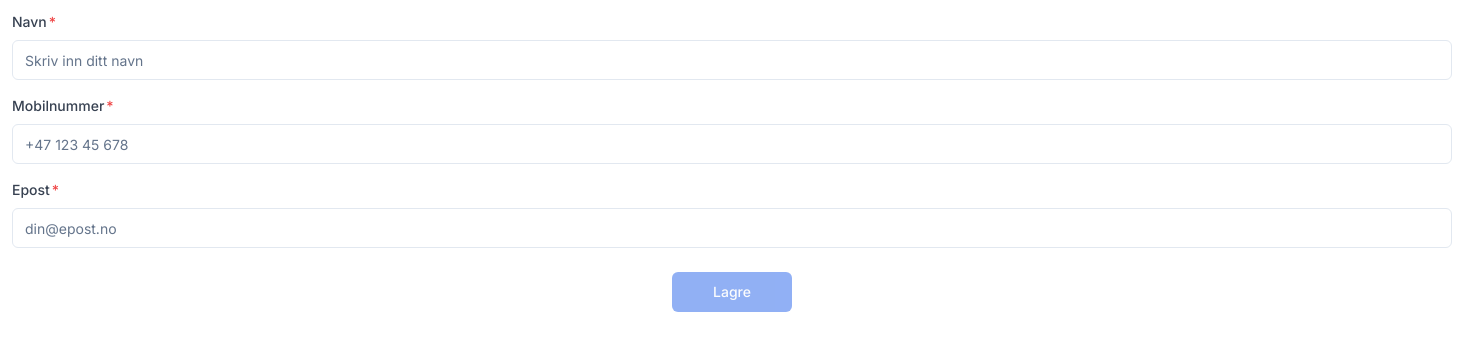
UserForm › should format mobile number as user types
The image size is (1464, 357).
Type 8-digit number and verify it gets formatted
Step 1. Type "12345678" into the field with placeholder "+47 123 45 678" → point(732, 144), box left=12, top=124, right=1452, bottom=164
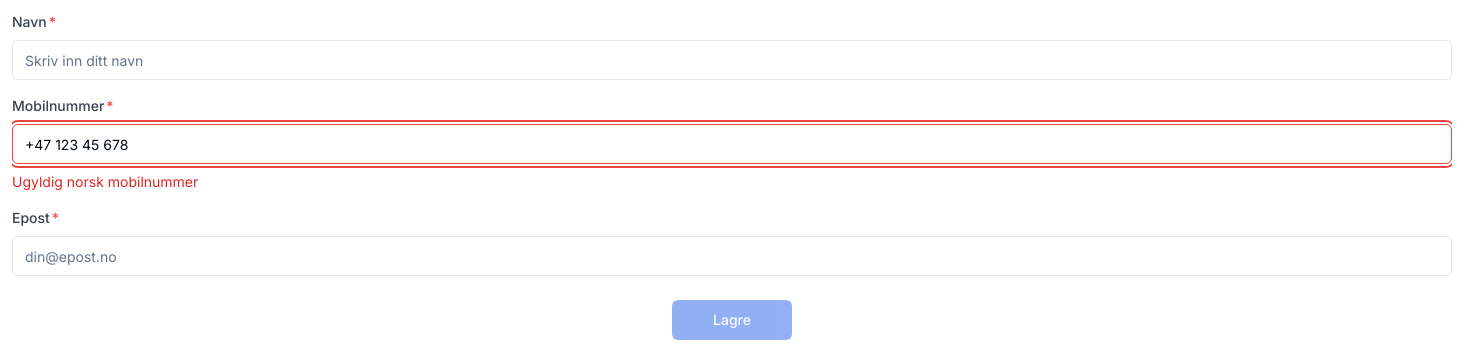
Expected: the field with placeholder "+47 123 45 678" holds "+47 123 45 678", left=12, top=124, right=1452, bottom=164
